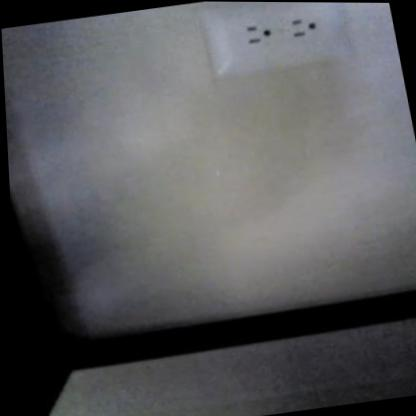OUTLET: (196, 1, 352, 77)
